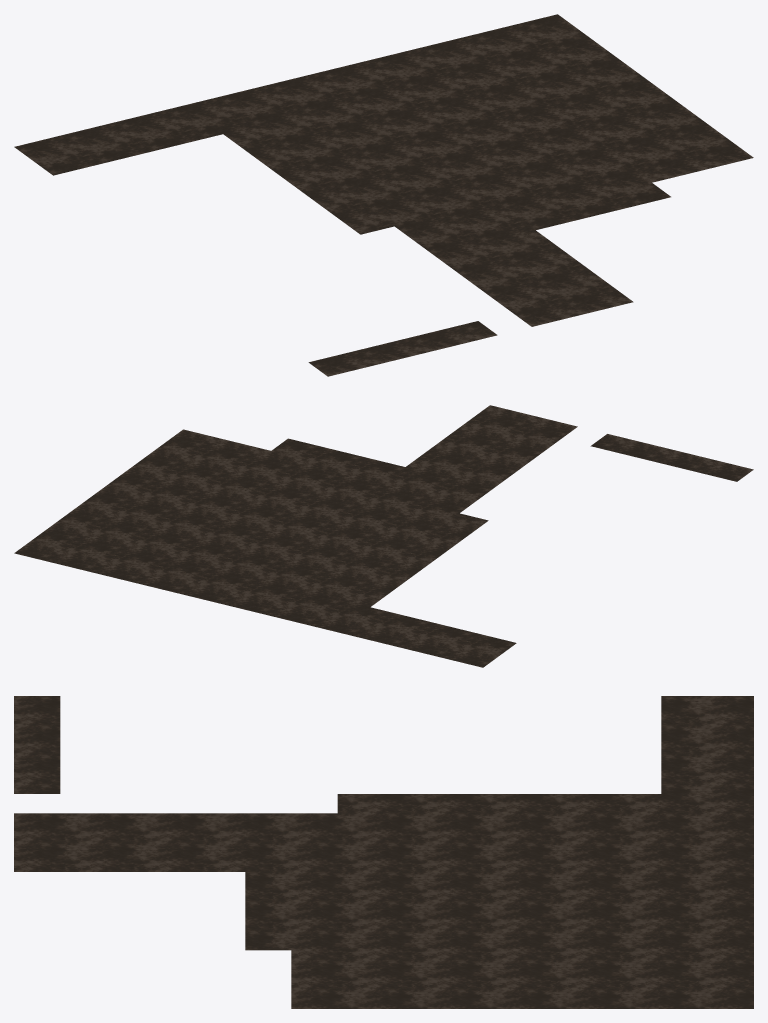
File: floor_0_-11.glb
3 renders of one model, top to bottom at view 1: azimuth 30°, elevation 25°; view 2: azimuth 150°, elevation 25°; view 3: azimuth 270°, elevation 25°, orthographic. The views are drawn at different scales.
Visible parts, largest first — view 1: floor_0_-11; view 2: floor_0_-11; view 3: floor_0_-11.
Boxes of the visible parts, x1=… form: floor_0_-11: x1=14, y1=14, x2=753, y2=376; floor_0_-11: x1=14, y1=405, x2=753, y2=667; floor_0_-11: x1=14, y1=696, x2=753, y2=1008.
Bounding box in the file's own units: 64 × 0 × 64.
Materials: 1 (1 with a texture image).
